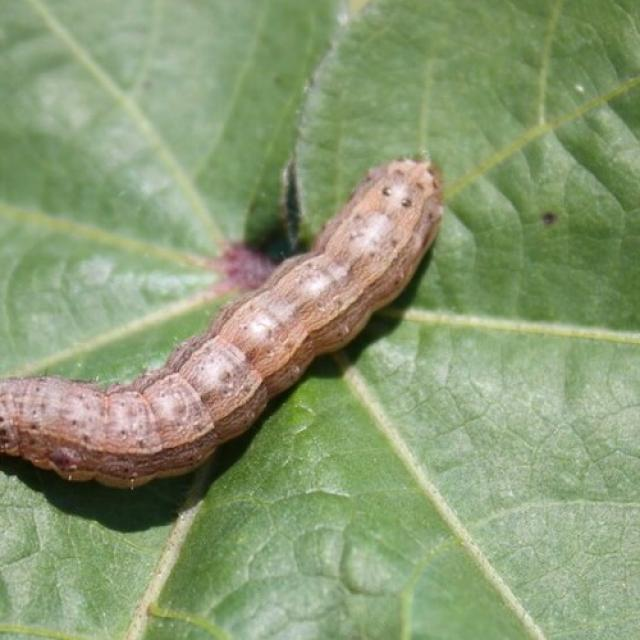armyworm: (0, 151, 444, 490)
